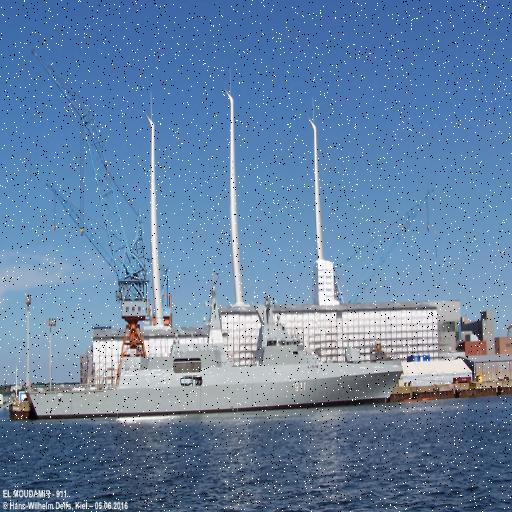Fragata: (18, 260, 405, 425)
